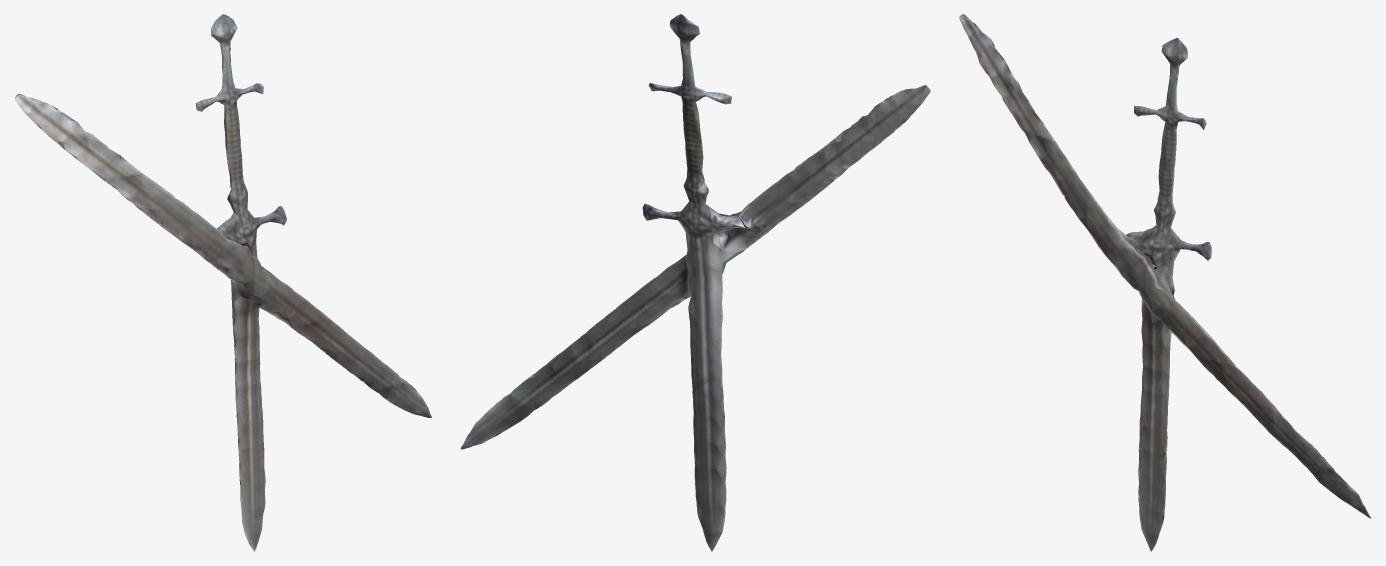
The picture shows the model from 3 angles, left to right: view 1: azimuth 30°, elevation 25°; view 2: azimuth 150°, elevation 25°; view 3: azimuth 330°, elevation 25°; orthographic projection. The views are drawn at different scales.
Parts seen in each view (by area): view 1: world; view 2: world; view 3: world.
Part boxes in pixels (bbox=[...]): world: bbox=[14, 14, 431, 551]; world: bbox=[460, 14, 930, 551]; world: bbox=[959, 14, 1371, 551].
Bounding box in the file's own units: 0.8073 × 0.9381 × 0.1162.
1 material, 1 textured.
